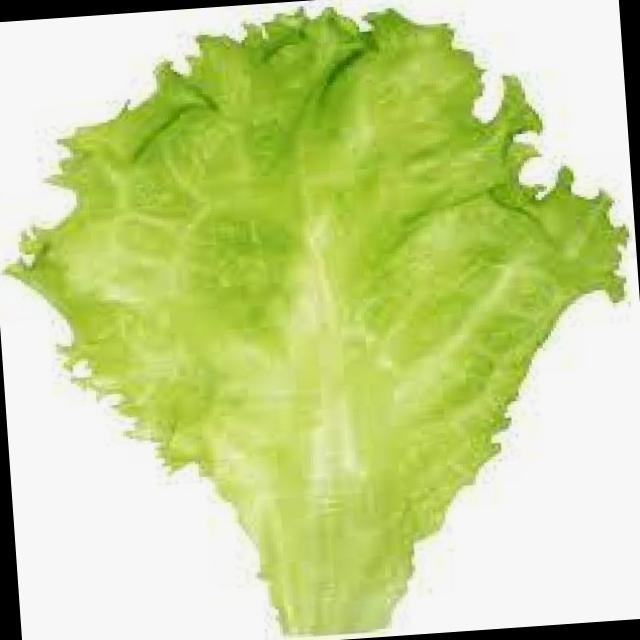Lettuce-Ready-to-Harvest: (9, 11, 623, 633)
